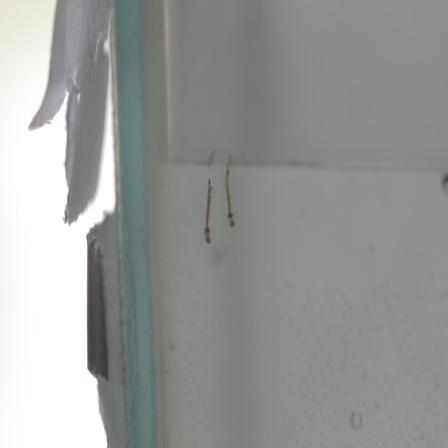Jentik-Nyamuk: (221, 160, 241, 232), (198, 176, 216, 248)
